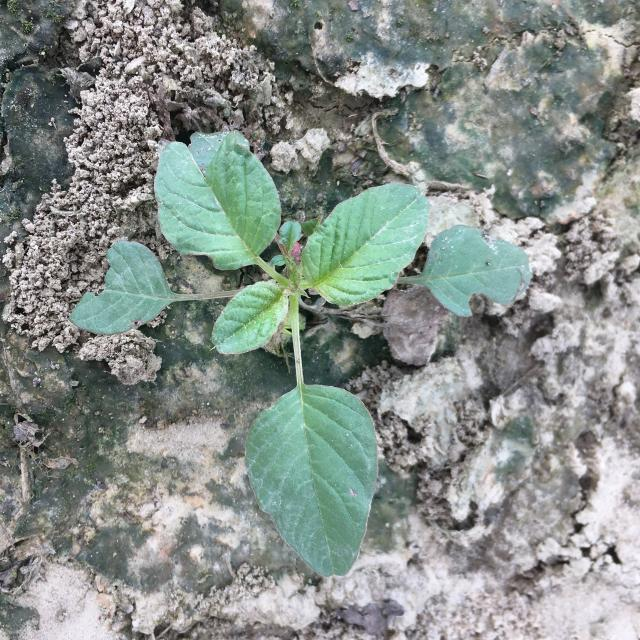PalmerAmaranth: (68, 130, 533, 578)
